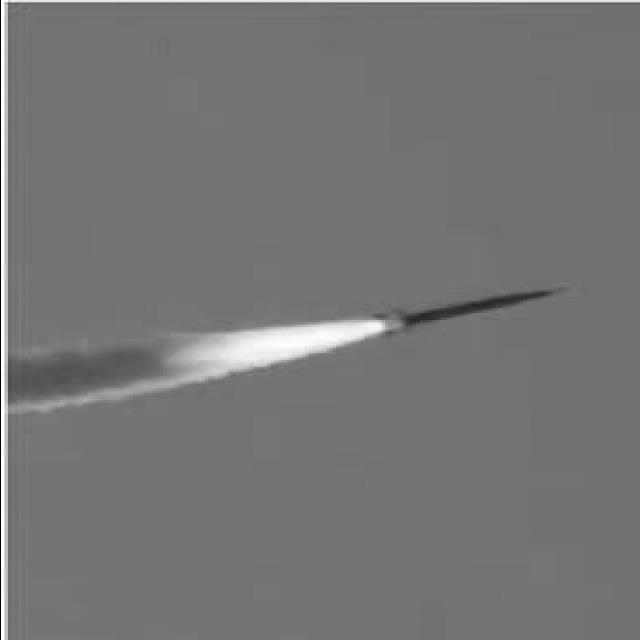missile: (377, 282, 557, 338)
